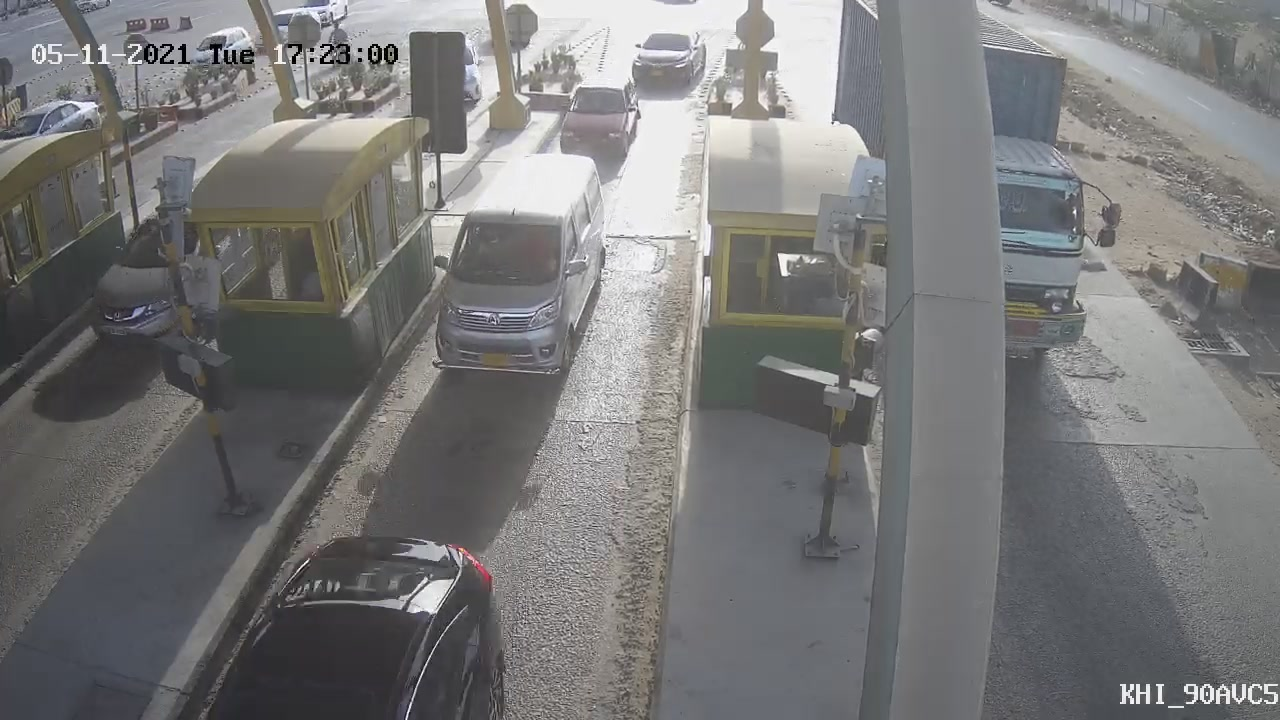F1: (416, 154, 625, 396), (544, 66, 656, 169)
